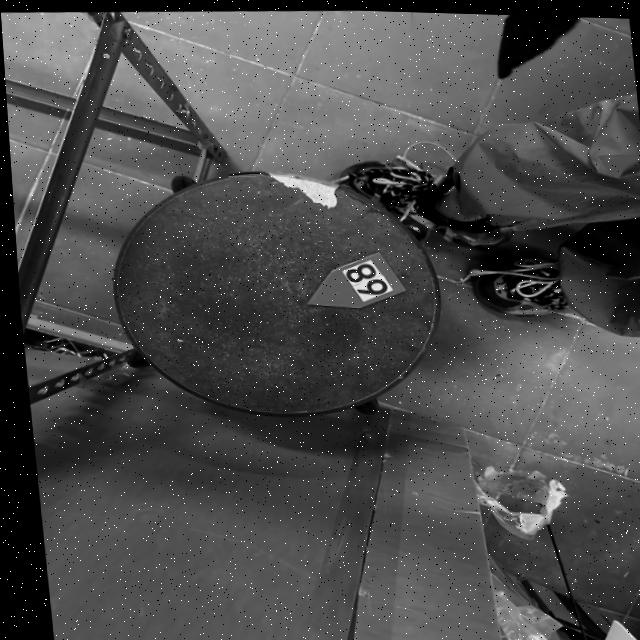board: (301, 247, 405, 306)
